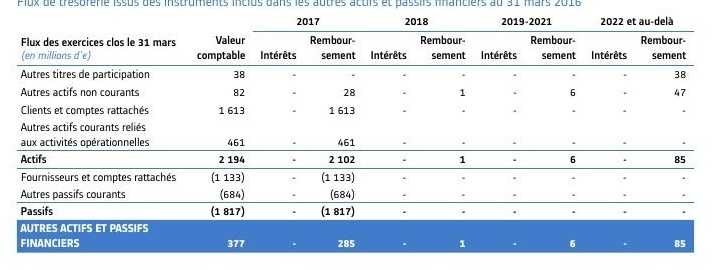table: (0, 0, 722, 270)
